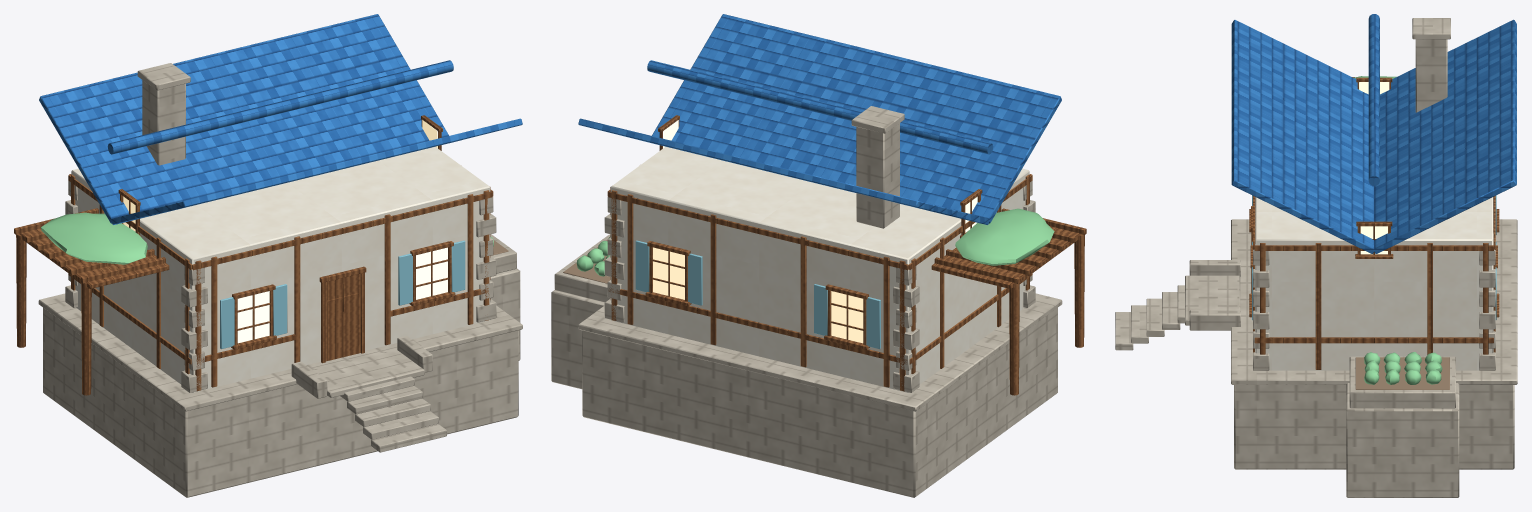
Rendered from provencal_cottage.glb.
The picture shows the model from 3 angles, left to right: view 1: azimuth 30°, elevation 25°; view 2: azimuth 150°, elevation 25°; view 3: azimuth 270°, elevation 25°; orthographic projection. The views are drawn at different scales.
Parts seen in each view (by area): view 1: Cot_StoneMasonry, Cot_TerracottaRoof, Cot_PlasterWalls, Cot_PergolaWood, Cot_HalfTimber, Cot_GardenFoliage, Cot_WarmWindows, Cot_Shutters; view 2: Cot_StoneMasonry, Cot_TerracottaRoof, Cot_PlasterWalls, Cot_HalfTimber, Cot_PergolaWood, Cot_GardenFoliage, Cot_WarmWindows, Cot_Shutters; view 3: Cot_StoneMasonry, Cot_TerracottaRoof, Cot_PlasterWalls, Cot_HalfTimber, Cot_GardenFoliage, Cot_GardenSoil, Cot_PergolaWood, Cot_WarmWindows.
Part boxes in pixels (x1=…): Cot_StoneMasonry: x1=38, y1=63, x2=522, y2=497; Cot_TerracottaRoof: x1=39, y1=14, x2=522, y2=224; Cot_PlasterWalls: x1=71, y1=146, x2=490, y2=392; Cot_PergolaWood: x1=14, y1=115, x2=455, y2=395; Cot_HalfTimber: x1=68, y1=174, x2=493, y2=391; Cot_GardenFoliage: x1=41, y1=212, x2=493, y2=264; Cot_WarmWindows: x1=123, y1=120, x2=447, y2=343; Cot_Shutters: x1=220, y1=240, x2=465, y2=349; Cot_StoneMasonry: x1=551, y1=106, x2=1062, y2=497; Cot_TerracottaRoof: x1=578, y1=14, x2=1061, y2=224; Cot_PlasterWalls: x1=610, y1=146, x2=1029, y2=392; Cot_HalfTimber: x1=607, y1=174, x2=1032, y2=391; Cot_PergolaWood: x1=645, y1=115, x2=1086, y2=395; Cot_GardenFoliage: x1=576, y1=208, x2=1054, y2=276; Cot_WarmWindows: x1=653, y1=120, x2=977, y2=343; Cot_Shutters: x1=635, y1=240, x2=880, y2=349; Cot_StoneMasonry: x1=1115, y1=18, x2=1517, y2=497; Cot_TerracottaRoof: x1=1231, y1=14, x2=1516, y2=253; Cot_PlasterWalls: x1=1255, y1=197, x2=1493, y2=370; Cot_HalfTimber: x1=1253, y1=196, x2=1495, y2=369; Cot_GardenFoliage: x1=1353, y1=76, x2=1442, y2=384; Cot_GardenSoil: x1=1355, y1=357, x2=1449, y2=389; Cot_PergolaWood: x1=1249, y1=77, x2=1499, y2=317; Cot_WarmWindows: x1=1359, y1=82, x2=1389, y2=254.
Bounding box in the file's own units: 12.59 × 8.71 × 9.81.
Materials: 8 (4 with a texture image).
